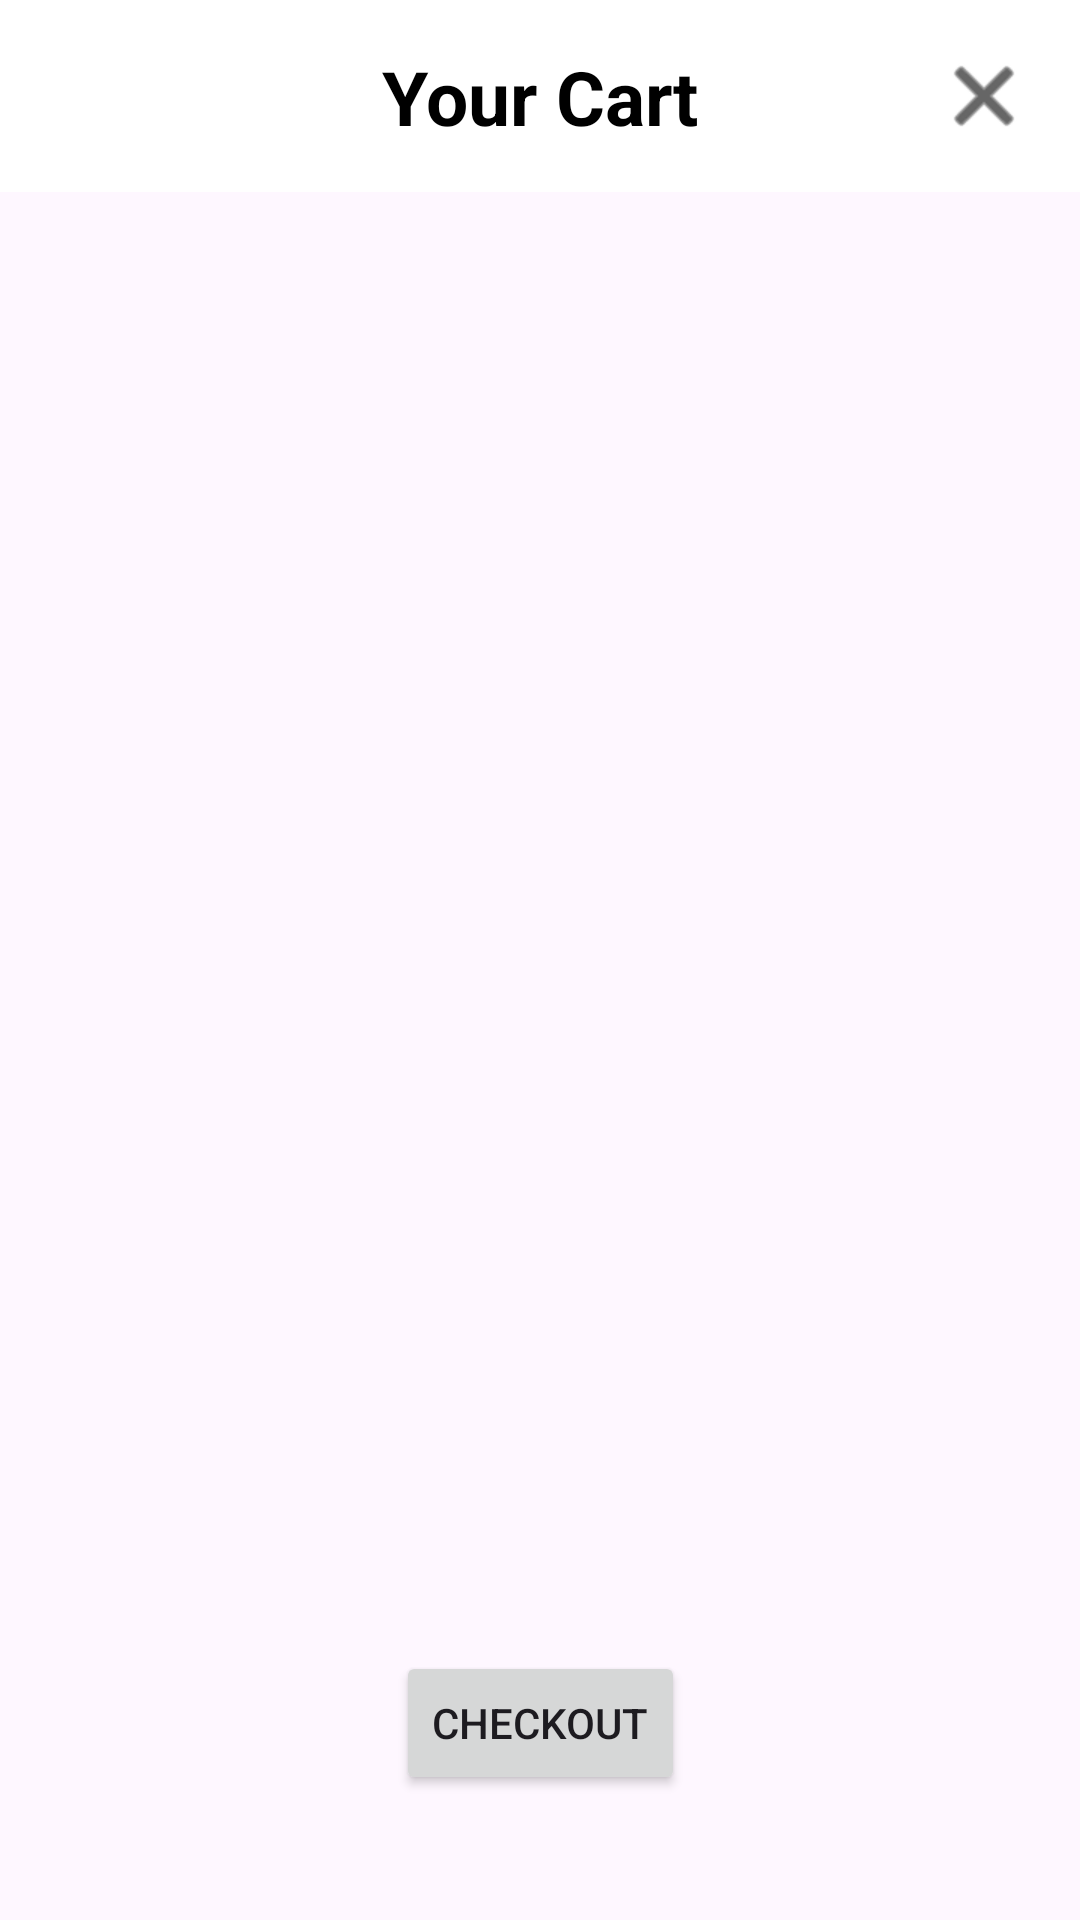

Where to tap for icons on this 1080 × 1920 app screen, as (x,y):
close: (984,96)
